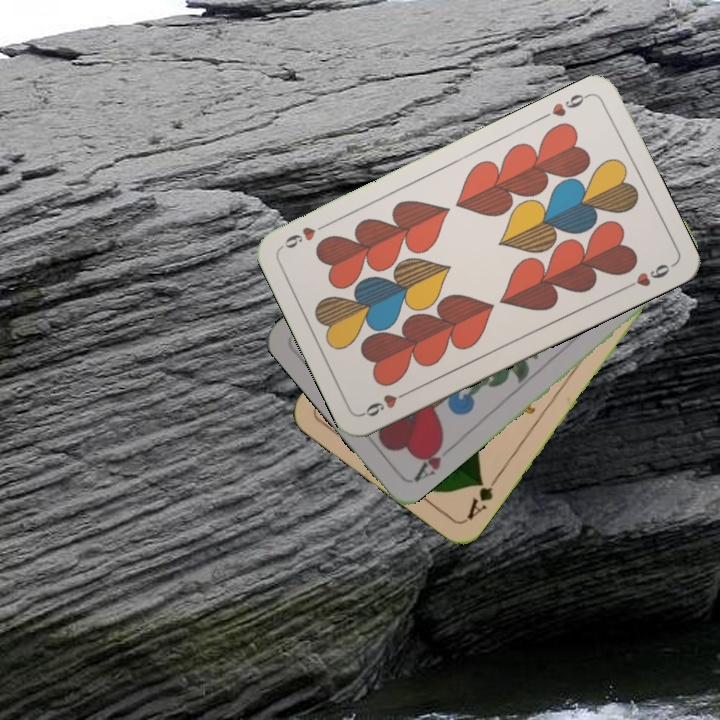GA: (463, 471, 502, 523)
H9: (358, 385, 414, 420), (538, 89, 593, 122)
HA: (409, 435, 457, 485)
